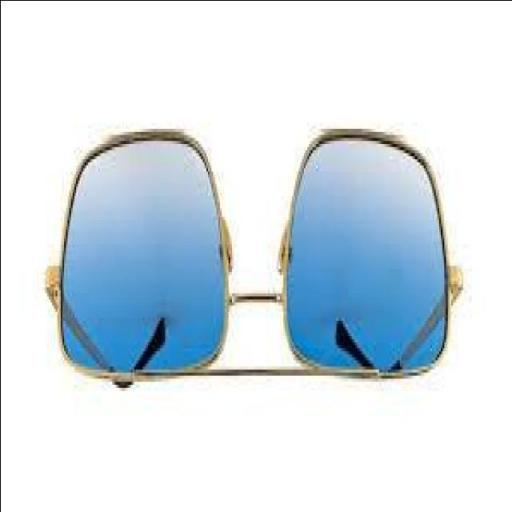glasses: (12, 75, 486, 440)
